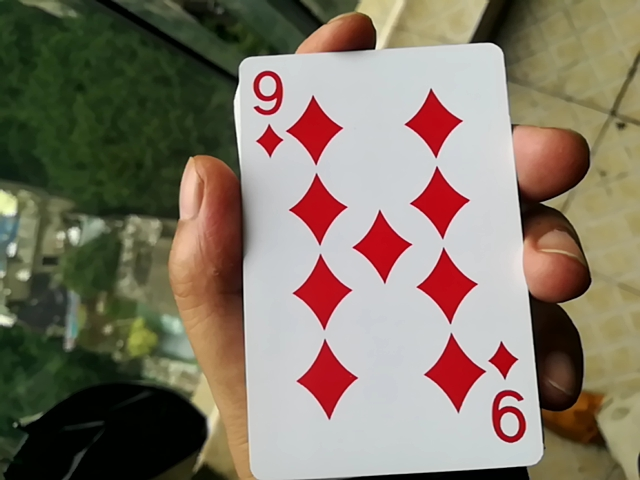fk 9: (219, 29, 534, 475)
